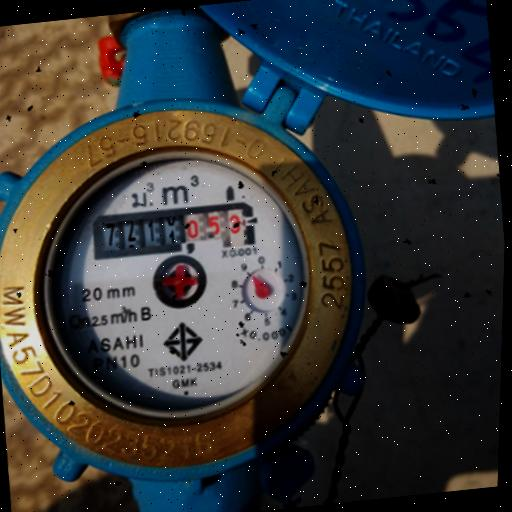0: (183, 213, 203, 243), (161, 216, 179, 247)
1: (142, 218, 160, 249)
2: (121, 219, 139, 250)
3: (226, 207, 247, 247)
5: (204, 211, 223, 241)
7: (102, 222, 119, 253)
border_water_meter_number: (90, 200, 257, 262)
